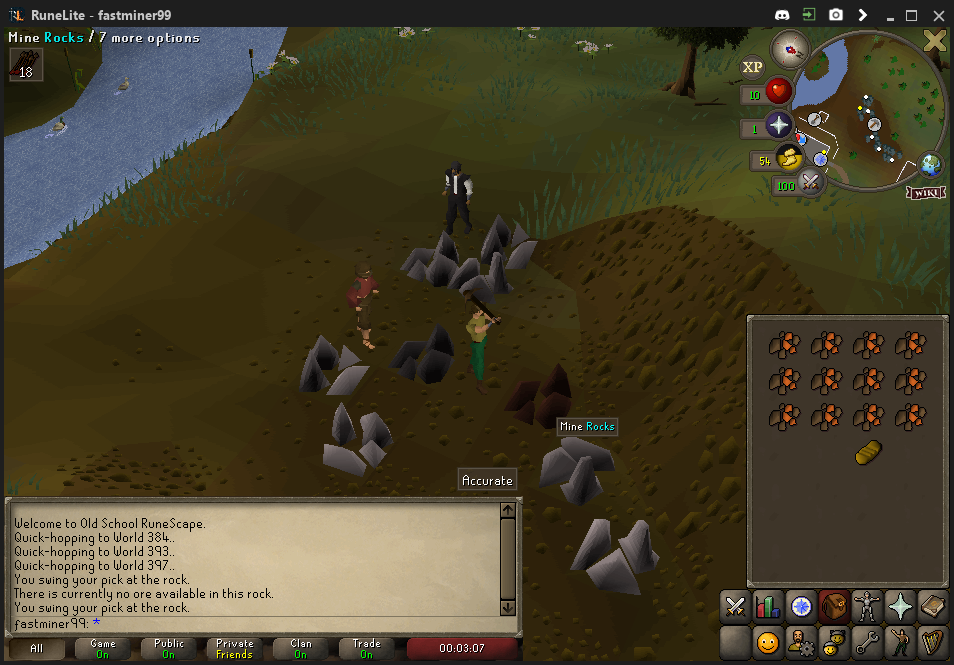depleted: (394, 320, 458, 383)
ore: (504, 365, 579, 432)
